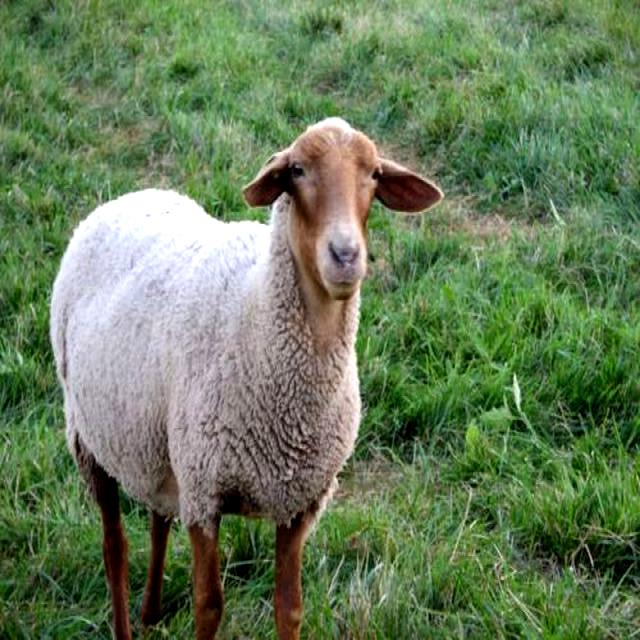sheep: (45, 117, 443, 640)
